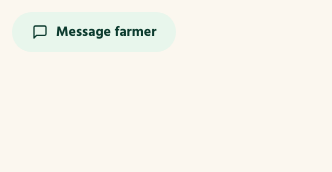
MessageButton › creates-or-finds the conversation and navigates to the thread
The width and height of the screenshot is (332, 172).
Step 1. Click the button "Message farmer" → (94, 32), box [12,12,176,52]
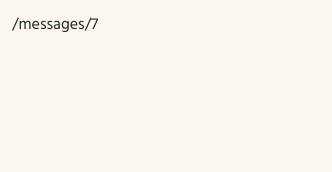
Expected: the text with test id "location" reads "/messages/7", [12,11,98,37]
